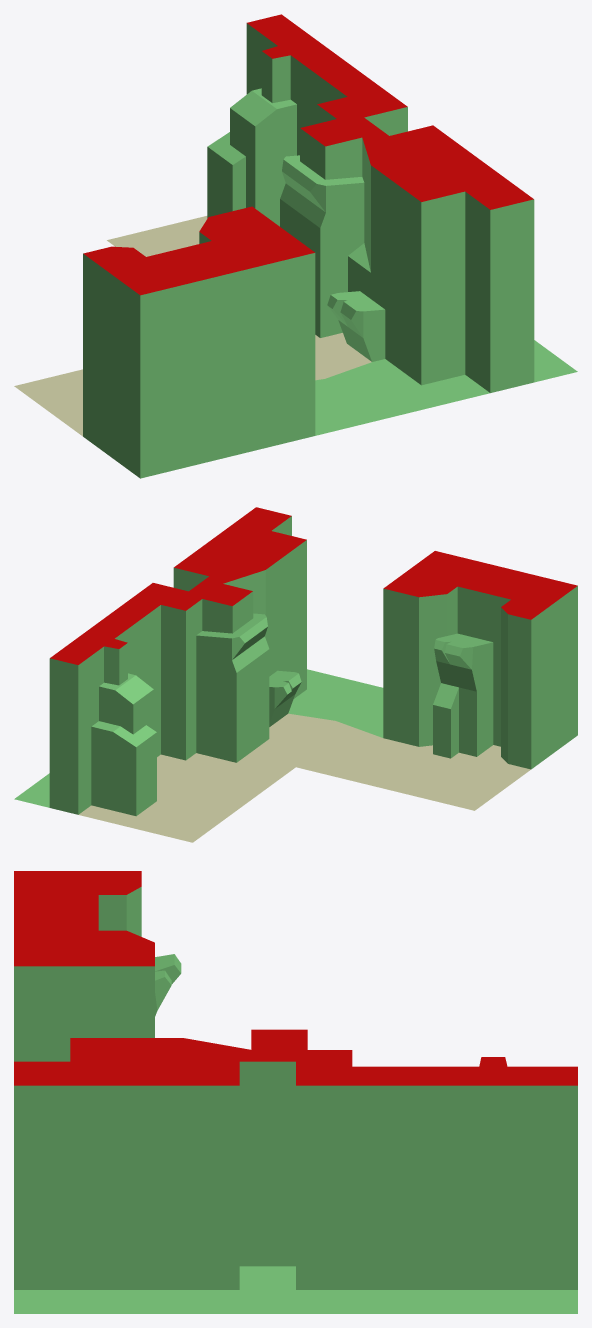
File: x_oo_ground_36_1_mirror_rmstrd.fbx
3 renders of one model, top to bottom at view 1: azimuth 30°, elevation 25°; view 2: azimuth 150°, elevation 25°; view 3: azimuth 270°, elevation 25°, orthographic. The views are drawn at different scales.
Visible parts, largest first — view 1: x_oo_ground_36_1_mirror_rmstrd1; view 2: x_oo_ground_36_1_mirror_rmstrd1; view 3: x_oo_ground_36_1_mirror_rmstrd1.
Boxes of the visible parts, x1,y1,x2,y2 form: x_oo_ground_36_1_mirror_rmstrd1: (14,14,577,478); x_oo_ground_36_1_mirror_rmstrd1: (14,507,577,842); x_oo_ground_36_1_mirror_rmstrd1: (14,871,577,1313).
Size of the model in its own units: 10 by 4 by 10.
